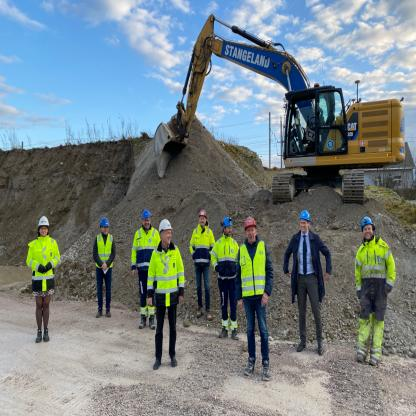excavator: (150, 9, 411, 210)
person: (233, 211, 281, 397), (281, 197, 334, 363), (350, 204, 394, 363), (147, 220, 185, 366), (26, 191, 53, 347), (210, 212, 239, 336), (128, 206, 155, 330), (190, 206, 212, 326), (92, 216, 115, 312)
